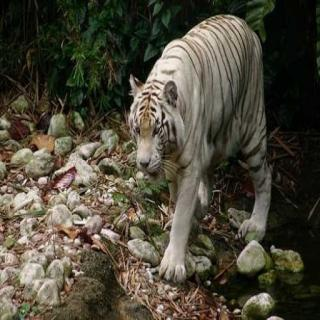Tiger: (91, 5, 306, 285)
